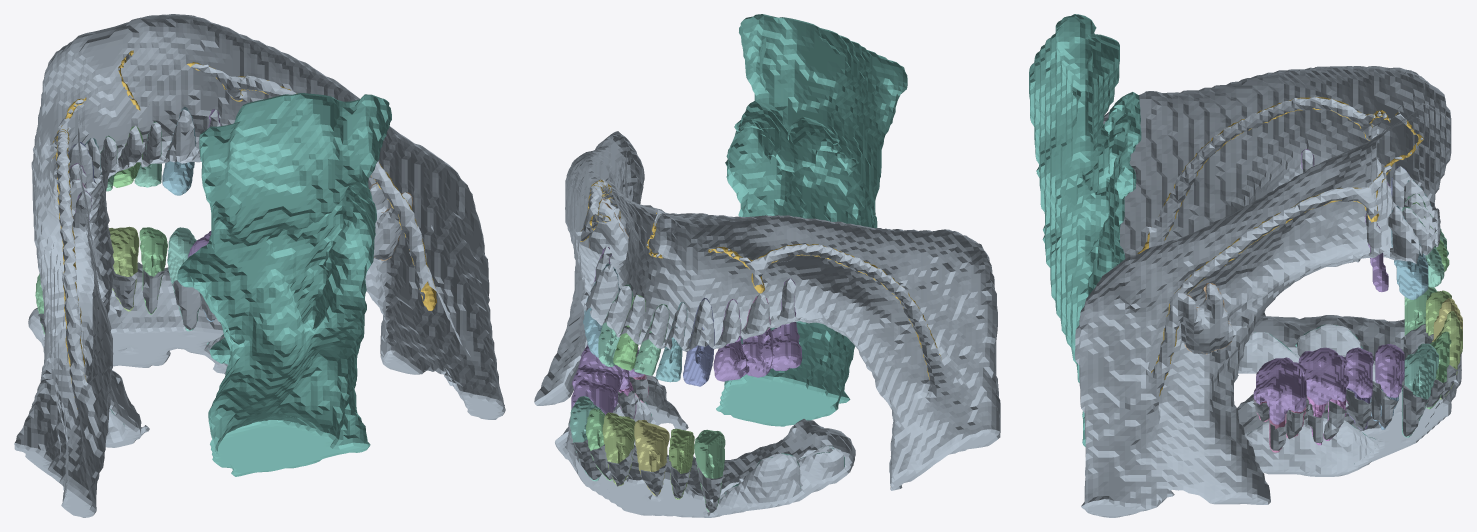
Rendered from ToothFairy3F_003.glb.
3 renders of one model, left to right at view 1: azimuth 30°, elevation 25°; view 2: azimuth 150°, elevation 25°; view 3: azimuth 270°, elevation 25°, orthographic. The views are drawn at different scales.
Parts seen in each view (by area): view 1: jaws__1, other__7, jaws__2, teeth__21, teeth__22, teeth__23, teeth__33, teeth__32, canals__3; view 2: jaws__1, other__7, jaws__2, restorations__9, teeth__11, teeth__21, teeth__13, teeth__43, teeth__12, teeth__42, teeth__23, teeth__41 (+5 smaller); view 3: jaws__1, other__7, jaws__2, restorations__9, teeth__23, teeth__33, teeth__13, teeth__21, teeth__22, restorations__10, teeth__12, teeth__32 (+3 smaller).
Part boxes in pixels (<box>): jaws__1: <box>14,14,505,517</box>; other__7: <box>177,93,391,476</box>; jaws__2: <box>28,262,227,447</box>; teeth__21: <box>108,226,139,311</box>; teeth__22: <box>139,227,167,314</box>; teeth__23: <box>167,227,199,331</box>; teeth__33: <box>162,106,195,195</box>; teeth__32: <box>134,121,161,187</box>; canals__3: <box>230,76,436,310</box>; jaws__1: <box>534,131,1000,490</box>; other__7: <box>716,14,907,426</box>; jaws__2: <box>555,375,855,517</box>; restorations__9: <box>571,322,802,414</box>; teeth__11: <box>634,420,669,495</box>; teeth__21: <box>602,412,635,486</box>; teeth__13: <box>694,429,725,511</box>; teeth__43: <box>683,297,714,386</box>; teeth__12: <box>669,428,694,499</box>; teeth__42: <box>655,302,687,382</box>; teeth__23: <box>569,396,602,481</box>; teeth__41: <box>634,304,669,375</box>; jaws__1: <box>1075,66,1451,517</box>; other__7: <box>1029,14,1141,446</box>; jaws__2: <box>1237,315,1461,476</box>; restorations__9: <box>1253,344,1404,424</box>; teeth__23: <box>1402,343,1438,437</box>; teeth__33: <box>1389,206,1428,299</box>; teeth__13: <box>1404,286,1437,335</box>; teeth__21: <box>1434,311,1462,399</box>; teeth__22: <box>1426,331,1451,409</box>; restorations__10: <box>1301,149,1388,292</box>; teeth__12: <box>1425,290,1451,335</box>; teeth__32: <box>1402,207,1444,287</box>.
Bounding box in the file's own units: 113 × 88.99 × 98.2.
